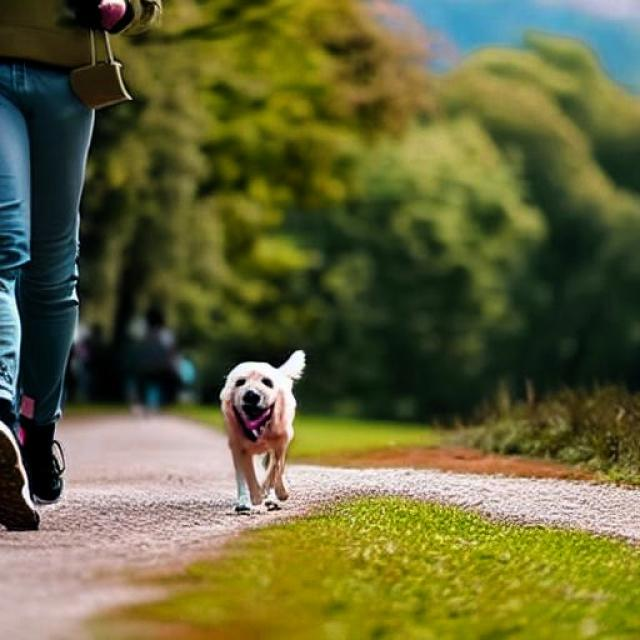Unleashed_Dog: (4, 0, 306, 508)
